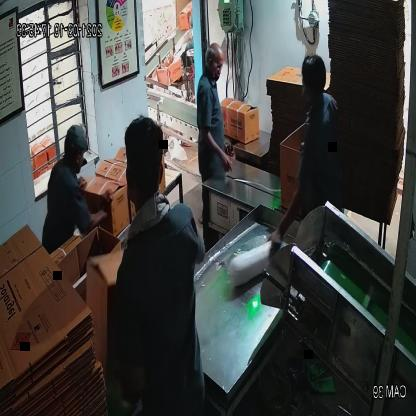no_glove: (265, 162, 312, 256), (78, 181, 118, 245), (196, 128, 236, 181)
